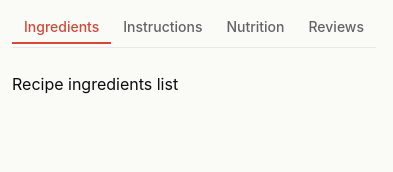
it: Tabs Components › Recipe App Use Cases › renders recipe detail tabs correctly
Expected: the text "Recipe ingredients list" is shown, [12,74,178,94]
Click the tab "Instructions" at (163, 30), box [111,16,214,44]
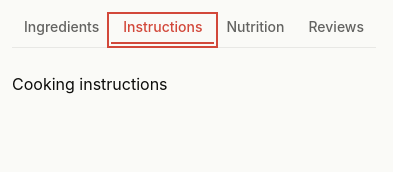
Now the text "Cooking instructions" is shown, box [12,74,168,94]
Now the text "Recipe ingredients list" is gone
